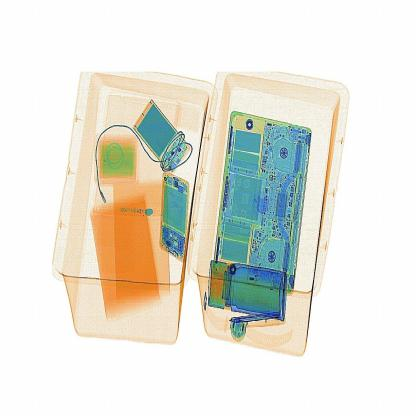pliers: (224, 308, 287, 325)
